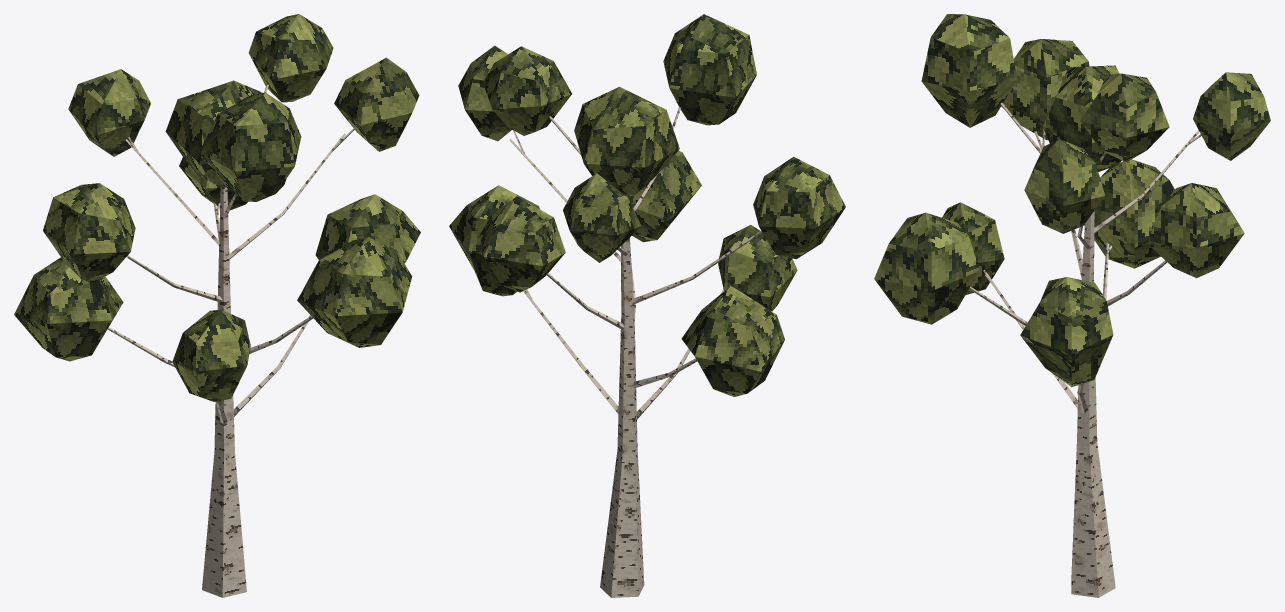
Rendered from TREE_Birch_Green_C_LOD2.glb.
3 renders of one model, left to right at view 1: azimuth 30°, elevation 25°; view 2: azimuth 150°, elevation 25°; view 3: azimuth 270°, elevation 25°, orthographic. The views are drawn at different scales.
Visible parts, largest first — view 1: TREE_Birch_Green_C_LOD2__Foliage, TREE_Birch_Green_C_LOD2__Bark; view 2: TREE_Birch_Green_C_LOD2__Foliage, TREE_Birch_Green_C_LOD2__Bark; view 3: TREE_Birch_Green_C_LOD2__Foliage, TREE_Birch_Green_C_LOD2__Bark.
Part boxes in pixels (x1=…): TREE_Birch_Green_C_LOD2__Foliage: x1=14, y1=14, x2=420, y2=401; TREE_Birch_Green_C_LOD2__Bark: x1=107, y1=83, x2=354, y2=597; TREE_Birch_Green_C_LOD2__Foliage: x1=449, y1=14, x2=845, y2=396; TREE_Birch_Green_C_LOD2__Bark: x1=509, y1=106, x2=762, y2=597; TREE_Birch_Green_C_LOD2__Foliage: x1=874, y1=14, x2=1270, y2=387; TREE_Birch_Green_C_LOD2__Bark: x1=969, y1=103, x2=1201, y2=597.
Size of the model in its own units: 6.9 by 9.58 by 6.12.
Materials: 2 (2 with a texture image).
